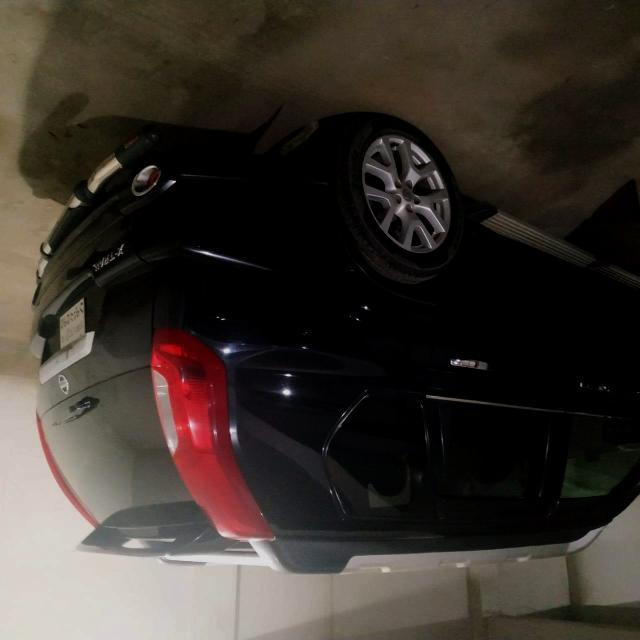black: (42, 107, 640, 565)
